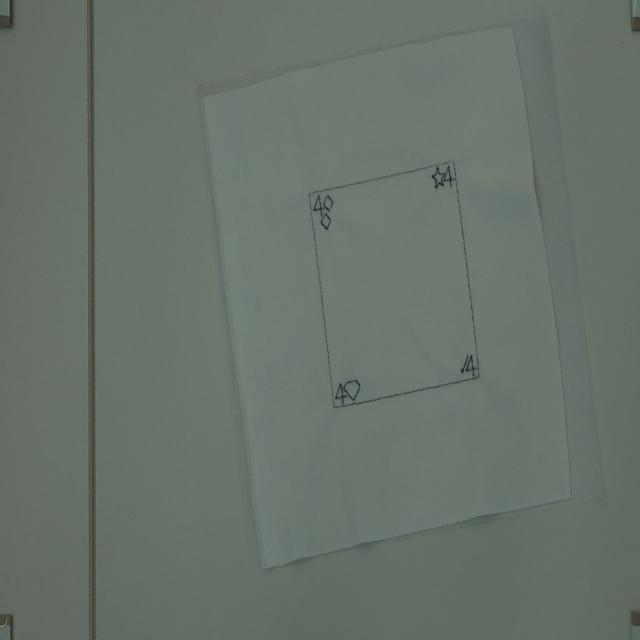4 -: (329, 377, 349, 409), (310, 192, 326, 218), (441, 163, 454, 190), (466, 358, 480, 379)
